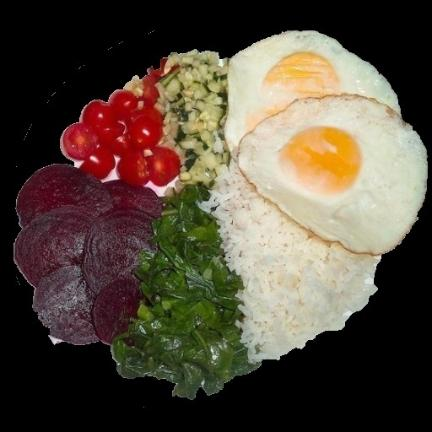beet: (15, 165, 161, 345)
egg: (225, 31, 427, 254)
green_vegetables: (114, 187, 260, 399), (157, 50, 229, 187)
rice: (200, 151, 380, 362)
tomato: (61, 60, 180, 186)
